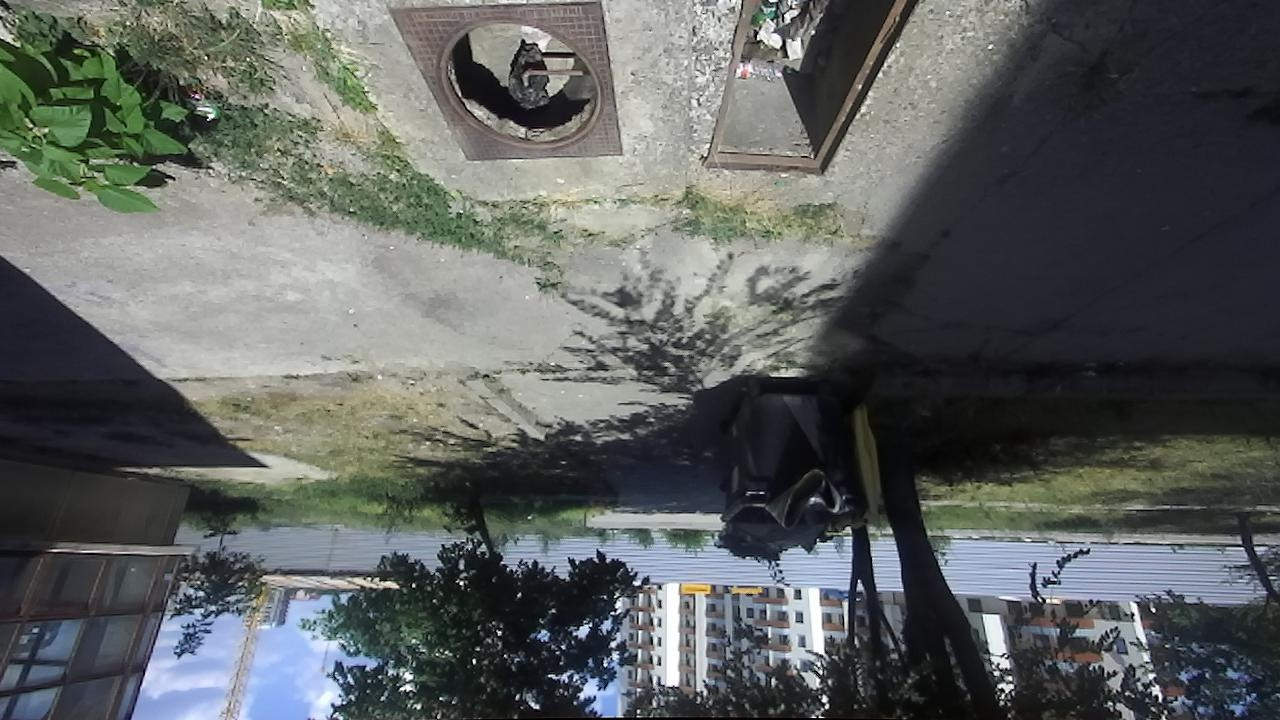drain: (701, 0, 921, 180), (424, 20, 605, 152)
